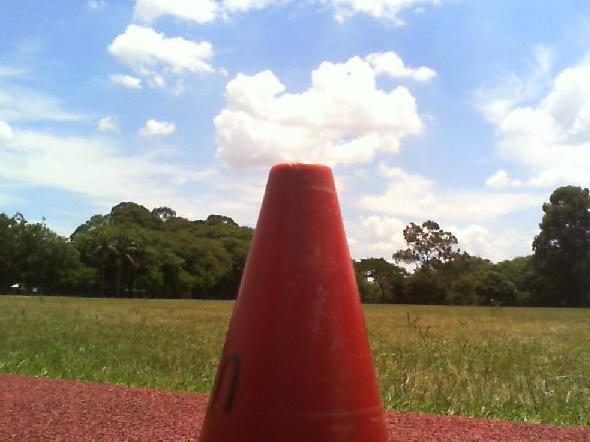0 cone: (183, 164, 394, 442)
